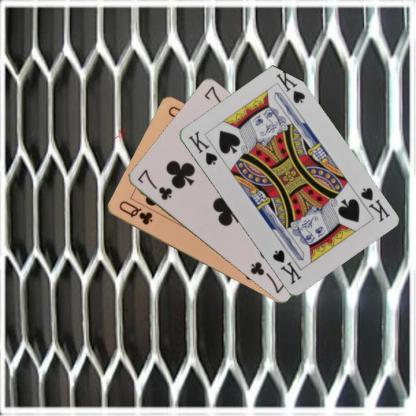7c: (134, 166, 173, 202)
Ks: (357, 185, 391, 223), (185, 128, 218, 167)
Qc: (116, 198, 154, 227)
